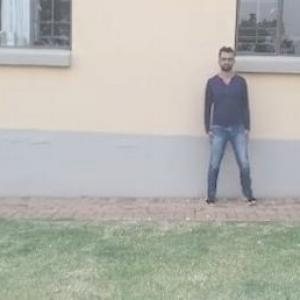follow: (205, 43, 252, 206)
